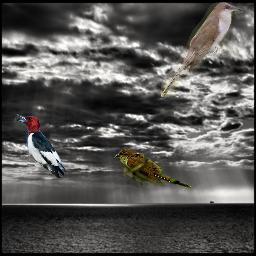Cuckoo: (161, 2, 243, 97), (114, 148, 192, 189)
Woodpecker: (14, 113, 67, 178)
